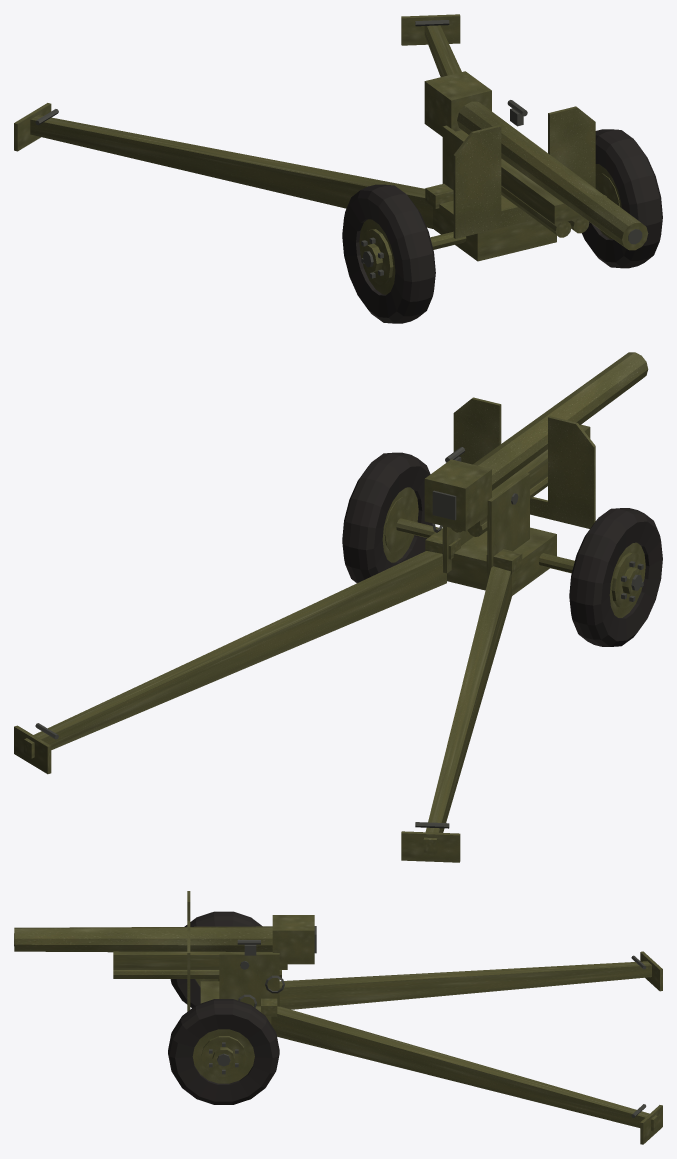
File: artillery.glb
The picture shows the model from 3 angles, top to bottom: view 1: azimuth 30°, elevation 25°; view 2: azimuth 150°, elevation 25°; view 3: azimuth 270°, elevation 25°; orthographic projection. The views are drawn at different scales.
Visible parts, largest first — view 1: longeron_right, pneu_right, bouclier, tube, pneu_left, corps, culasse, berceau, jante_right, beche_left, longeron_left, recuperateur (+4 smaller); view 2: longeron_left, pneu_right, bouclier, pneu_left, longeron_right, tube, flasques, culasse, corps, jante_left, beche_right, jante_right (+4 smaller); view 3: longeron_left, longeron_right, pneu_left, tube, flasques, jante_left, berceau, culasse, pneu_right, recuperateur, beche_left, bouclier (+2 smaller).
Boxes of the visible parts, <box> form: longeron_right: <box>30,115,432,228</box>; pneu_right: <box>342,184,435,323</box>; bouclier: <box>453,106,595,238</box>; tube: <box>457,101,648,250</box>; pneu_left: <box>582,129,662,268</box>; corps: <box>433,195,556,261</box>; culasse: <box>424,71,491,136</box>; berceau: <box>456,130,582,224</box>; jante_right: <box>359,219,395,294</box>; beche_left: <box>401,14,460,45</box>; longeron_left: <box>424,20,461,76</box>; recuperateur: <box>501,186,589,237</box>; longeron_left: <box>24,551,446,758</box>; pneu_right: <box>569,508,662,646</box>; bouclier: <box>453,397,595,528</box>; pneu_left: <box>342,452,432,582</box>; longeron_right: <box>423,566,511,854</box>; tube: <box>473,352,648,490</box>; flasques: <box>442,472,529,582</box>; culasse: <box>424,459,491,531</box>; corps: <box>447,527,556,595</box>; jante_left: <box>382,487,418,562</box>; beche_right: <box>401,831,460,862</box>; jante_right: <box>609,542,645,617</box>; longeron_left: <box>271,1006,657,1131</box>; longeron_right: <box>279,961,651,1009</box>; pneu_left: <box>168,999,279,1104</box>; tube: <box>14,926,272,952</box>; flasques: <box>219,952,279,1006</box>; jante_left: <box>192,1029,254,1083</box>; berceau: <box>113,951,287,969</box>; culasse: <box>272,915,314,964</box>; pneu_right: <box>170,911,262,1007</box>; recuperateur: <box>113,970,281,978</box>; beche_left: <box>640,1105,662,1144</box>; bouclier: <box>187,891,190,1011</box>.
Size of the model in its own units: 1.45 by 0.5819 by 2.32.
Materials: 3 (1 with a texture image).
